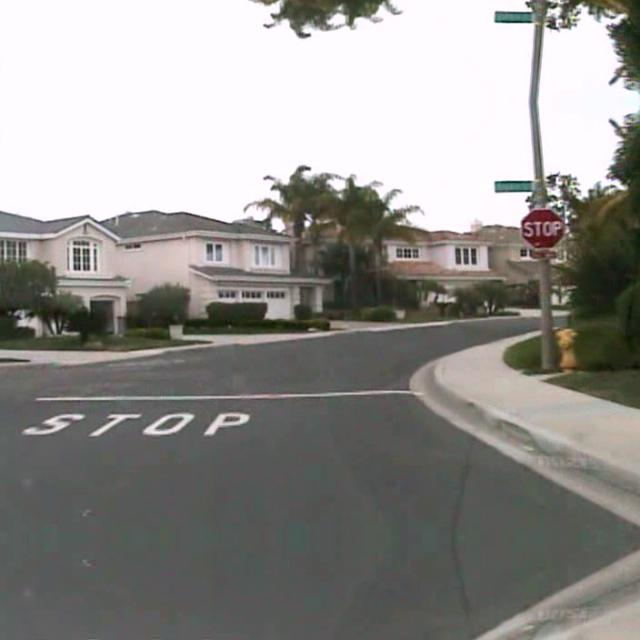stop: (520, 206, 564, 248)
